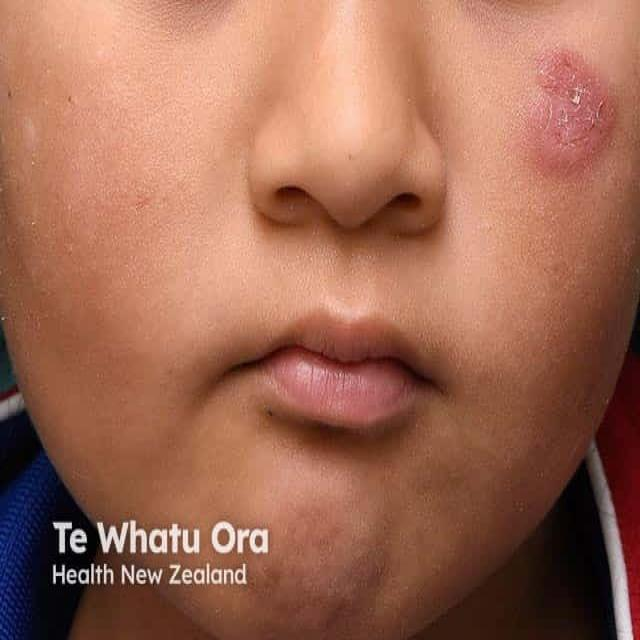lupus-detected: (511, 34, 640, 232)
